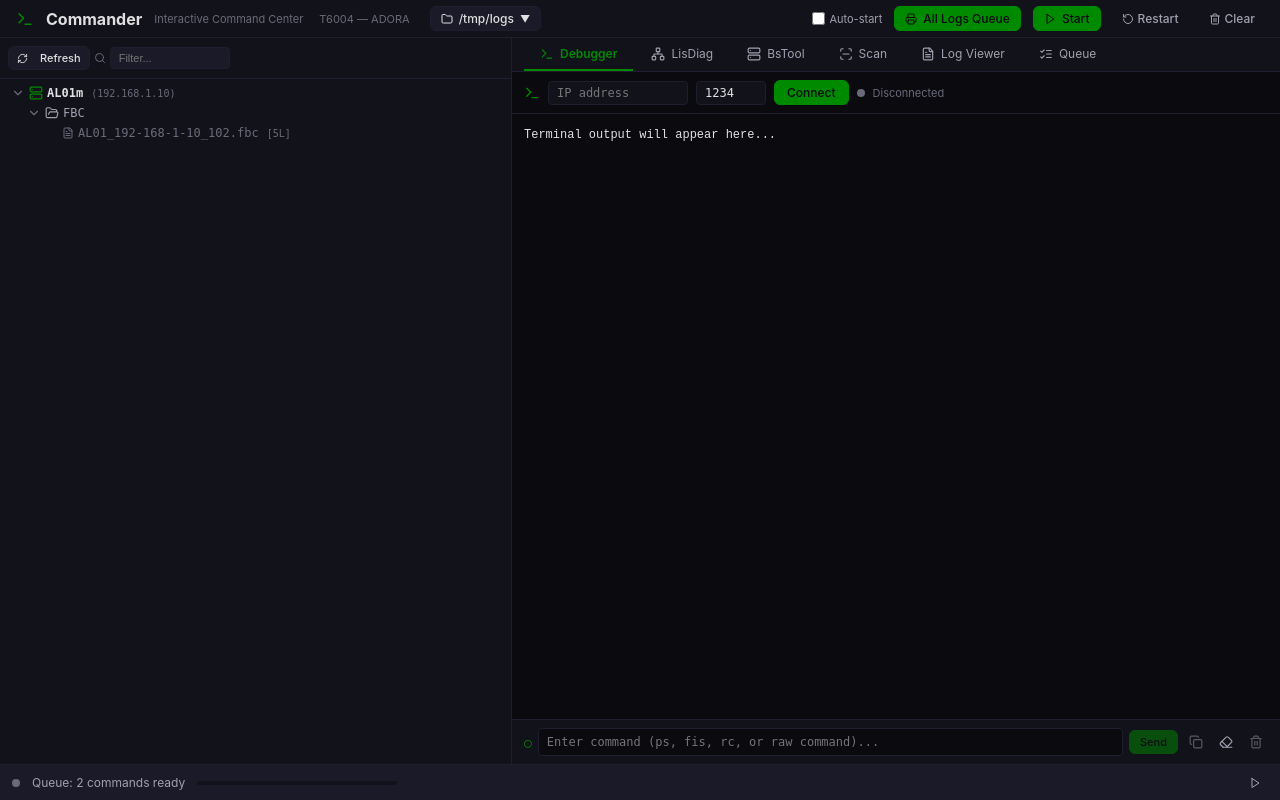
Test: CommanderLayout › renders Log Viewer tab content when Log Viewer clicked
The width and height of the screenshot is (1280, 800).
Expected: the button "Debugger" is shown, [524,38,634,71]
Click the button "Log Viewer" at (963, 54), box [905,38,1021,71]
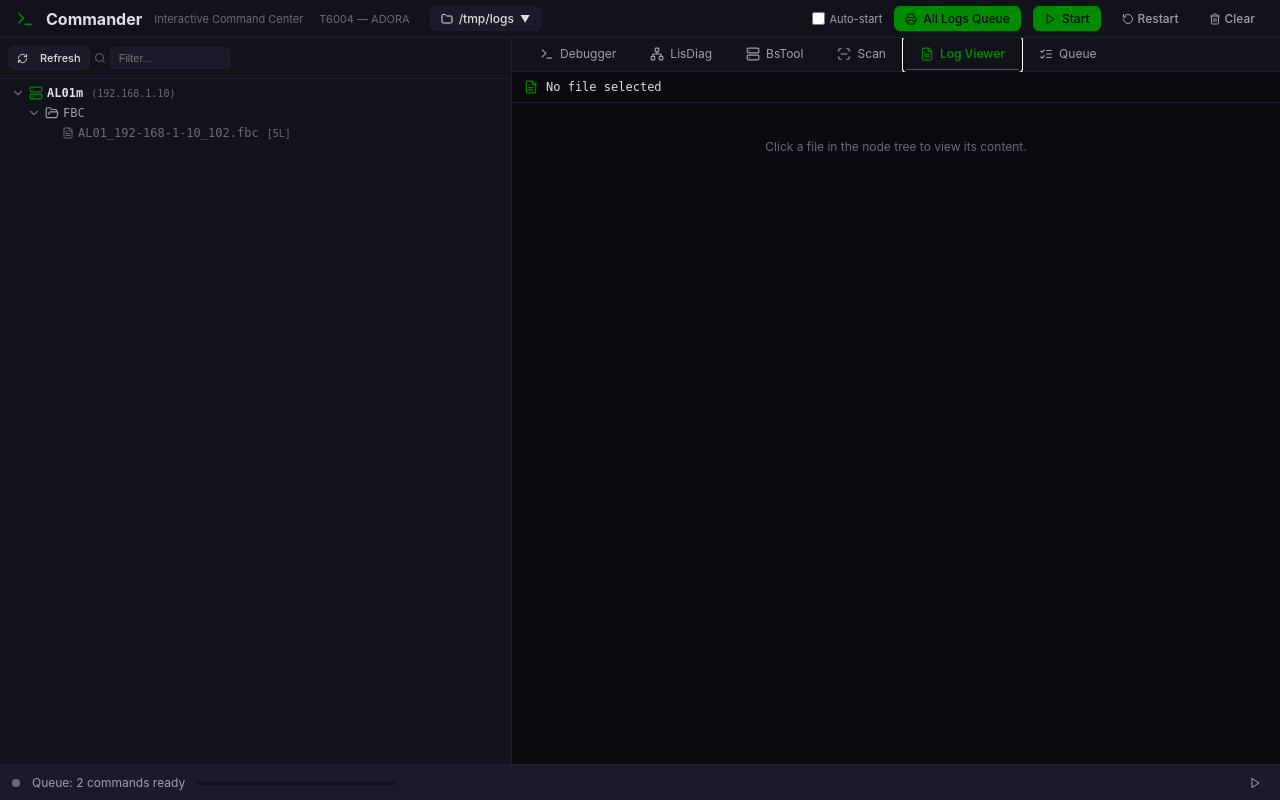
Expected: the text "No file selected" is shown, [546,80,662,94]
